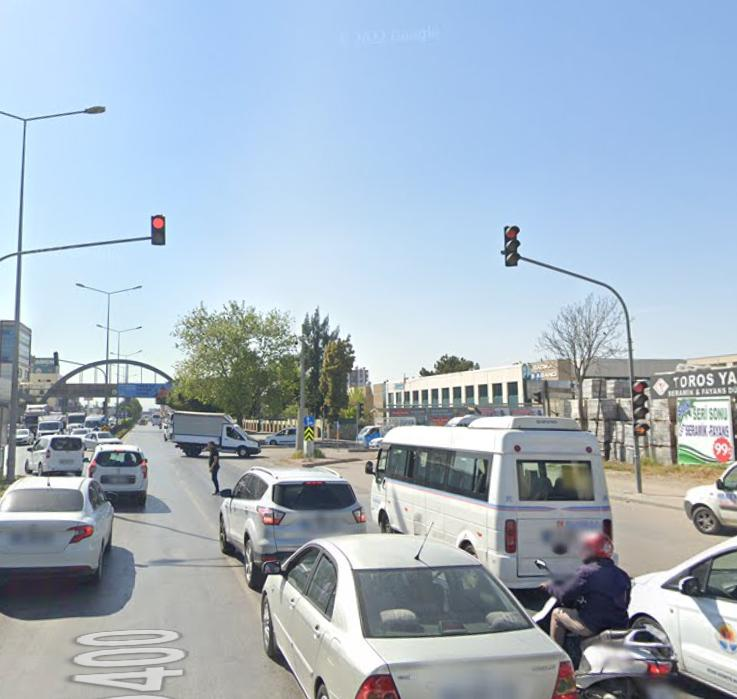redlight: (632, 378, 649, 421), (504, 223, 518, 267), (151, 214, 167, 248)
